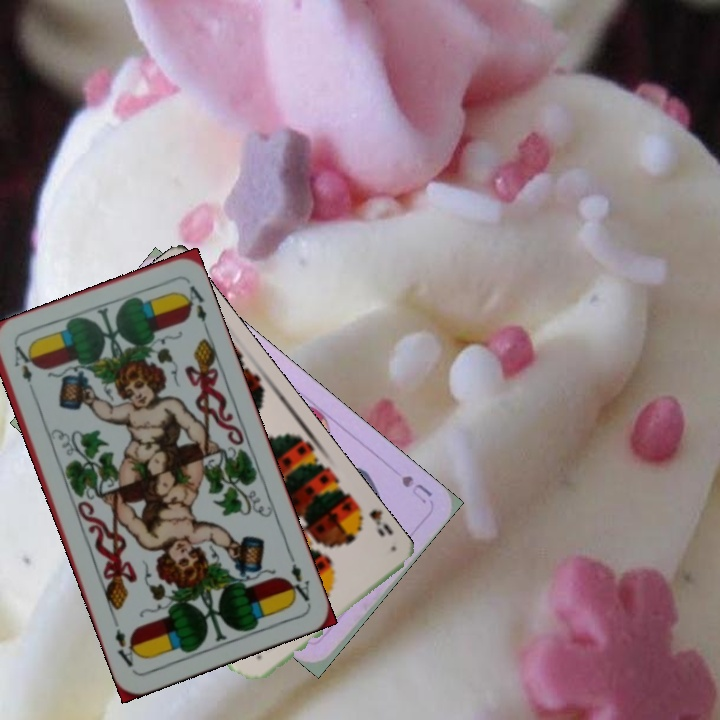EA: (282, 549, 313, 604), (9, 341, 35, 385)
S9: (353, 501, 388, 539)
SU: (397, 471, 435, 507)
